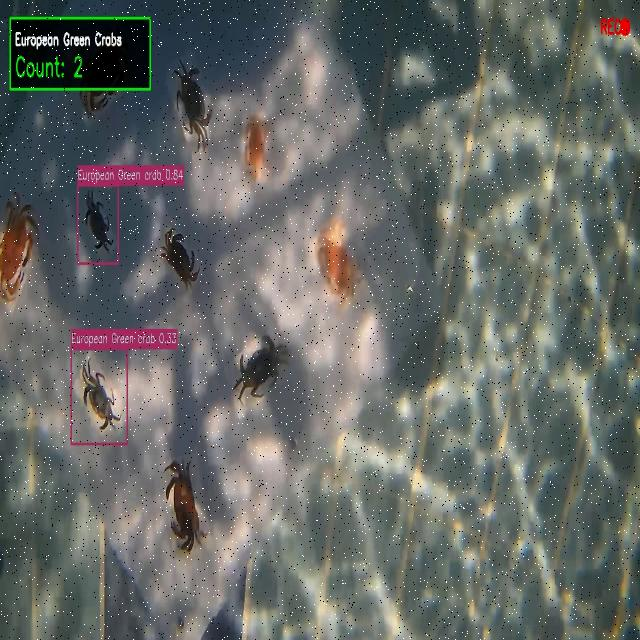European_Green_Crab: (226, 324, 294, 421), (164, 52, 221, 159), (72, 352, 128, 443), (76, 188, 118, 261)
